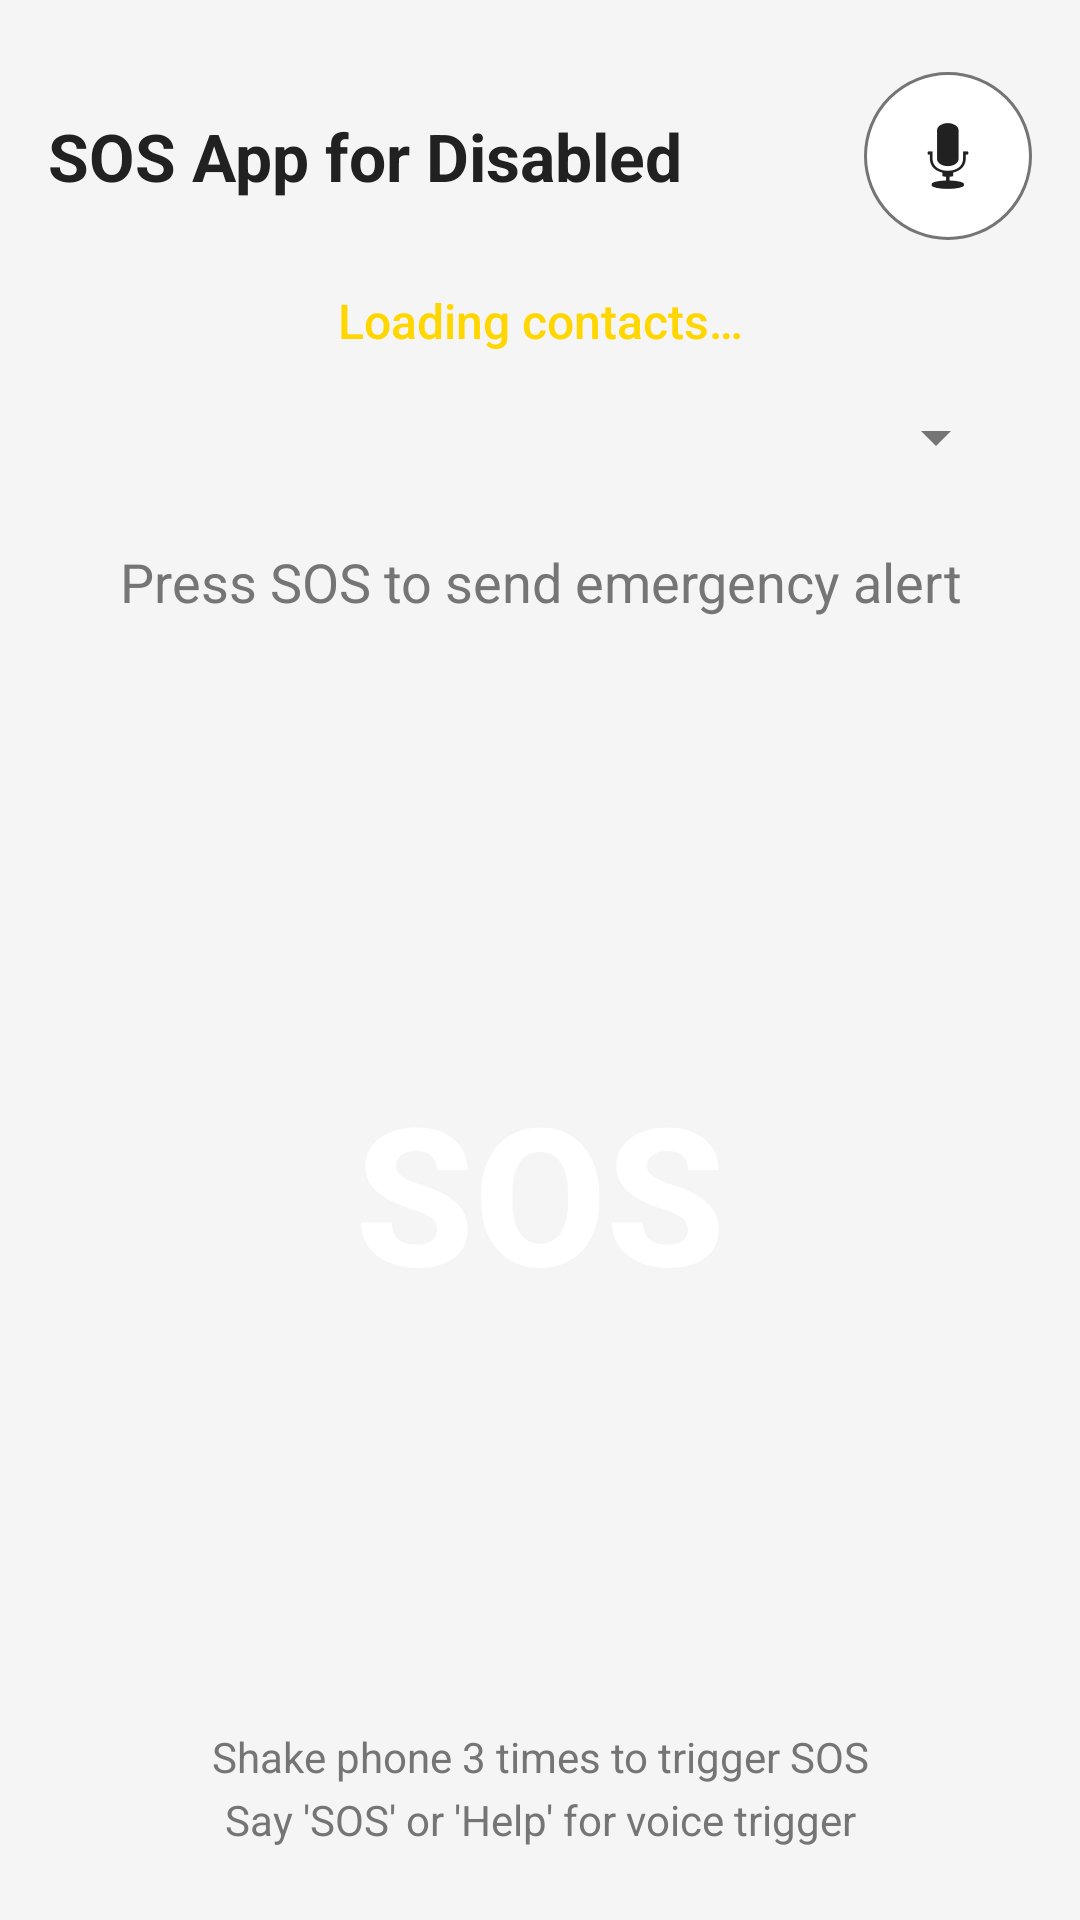

Named icons in this screenshot (1080*1920) and their bounding boxes, (x1, y1, x2, y2):
speak now: (864, 72, 1032, 240)
